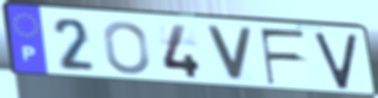2: (51, 17, 97, 74)
4: (161, 22, 203, 80)
F: (257, 27, 308, 87)
O: (101, 20, 152, 76)
V: (203, 23, 256, 85), (312, 31, 359, 91)
